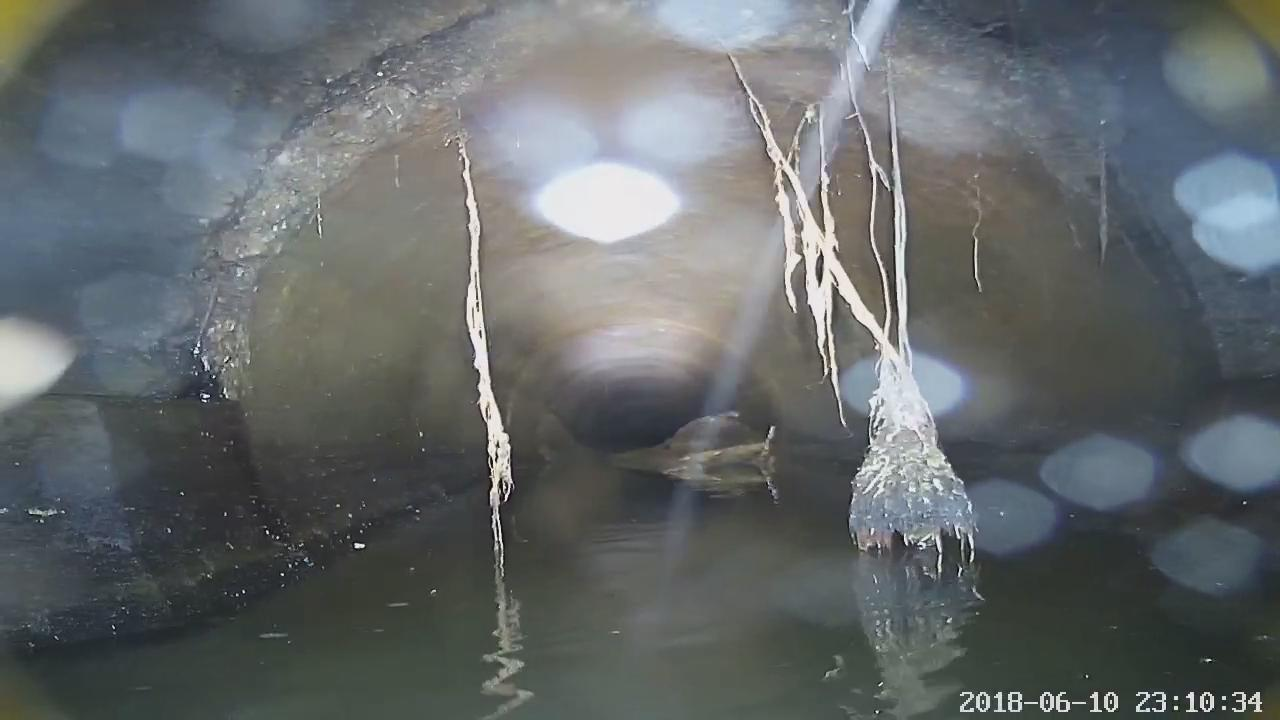SG: (725, 0, 975, 562), (454, 136, 513, 636)
